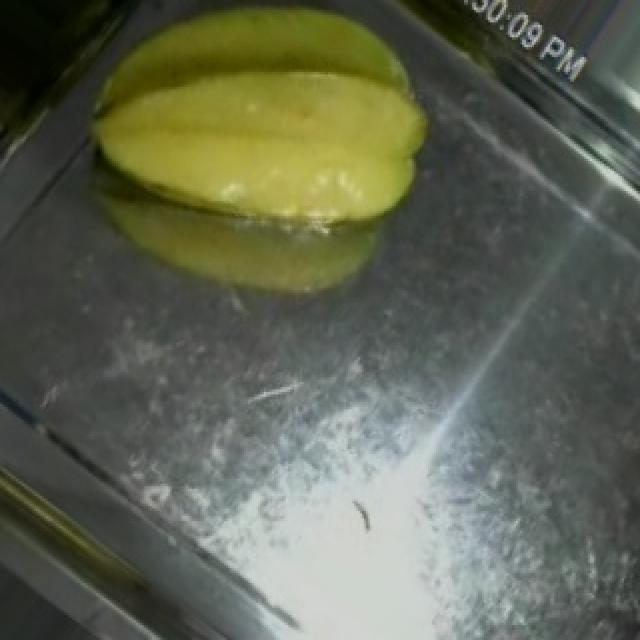fruit: (72, 2, 476, 320)
